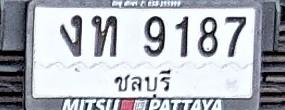1: (174, 15, 188, 57)
7: (224, 16, 246, 58)
8: (198, 16, 218, 57)
9: (143, 15, 165, 56)
A07: (60, 14, 82, 56)
A23: (91, 15, 117, 57)
CBI: (107, 64, 179, 100)
